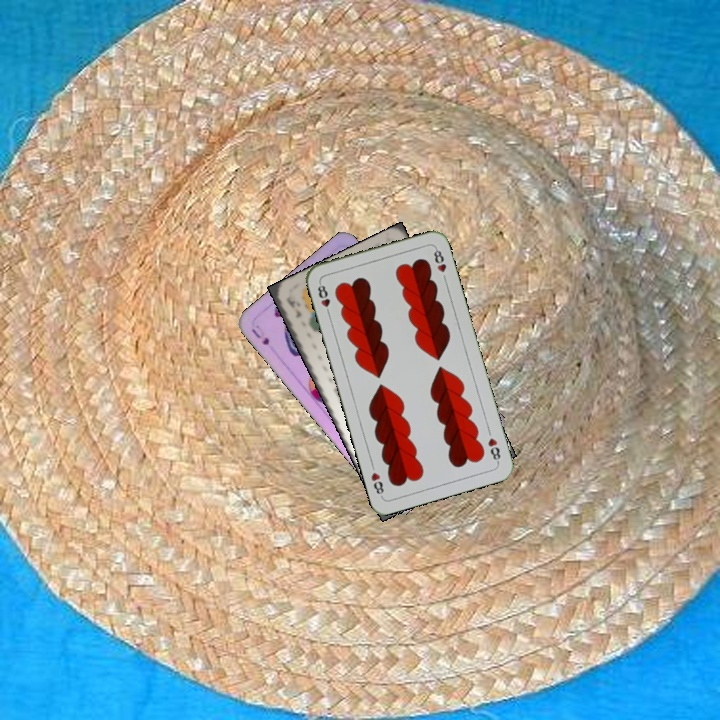EK: (282, 292, 304, 320)
H8: (314, 278, 333, 318), (484, 434, 503, 465)
SU: (247, 324, 272, 348)
